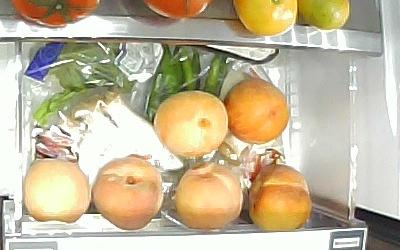peach: (92, 156, 164, 232), (154, 90, 227, 160), (175, 161, 244, 231), (247, 163, 314, 232), (24, 157, 91, 224), (225, 79, 290, 144)
